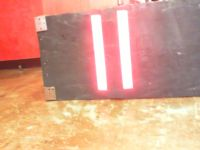switch: (115, 10, 134, 89), (90, 15, 109, 91)
